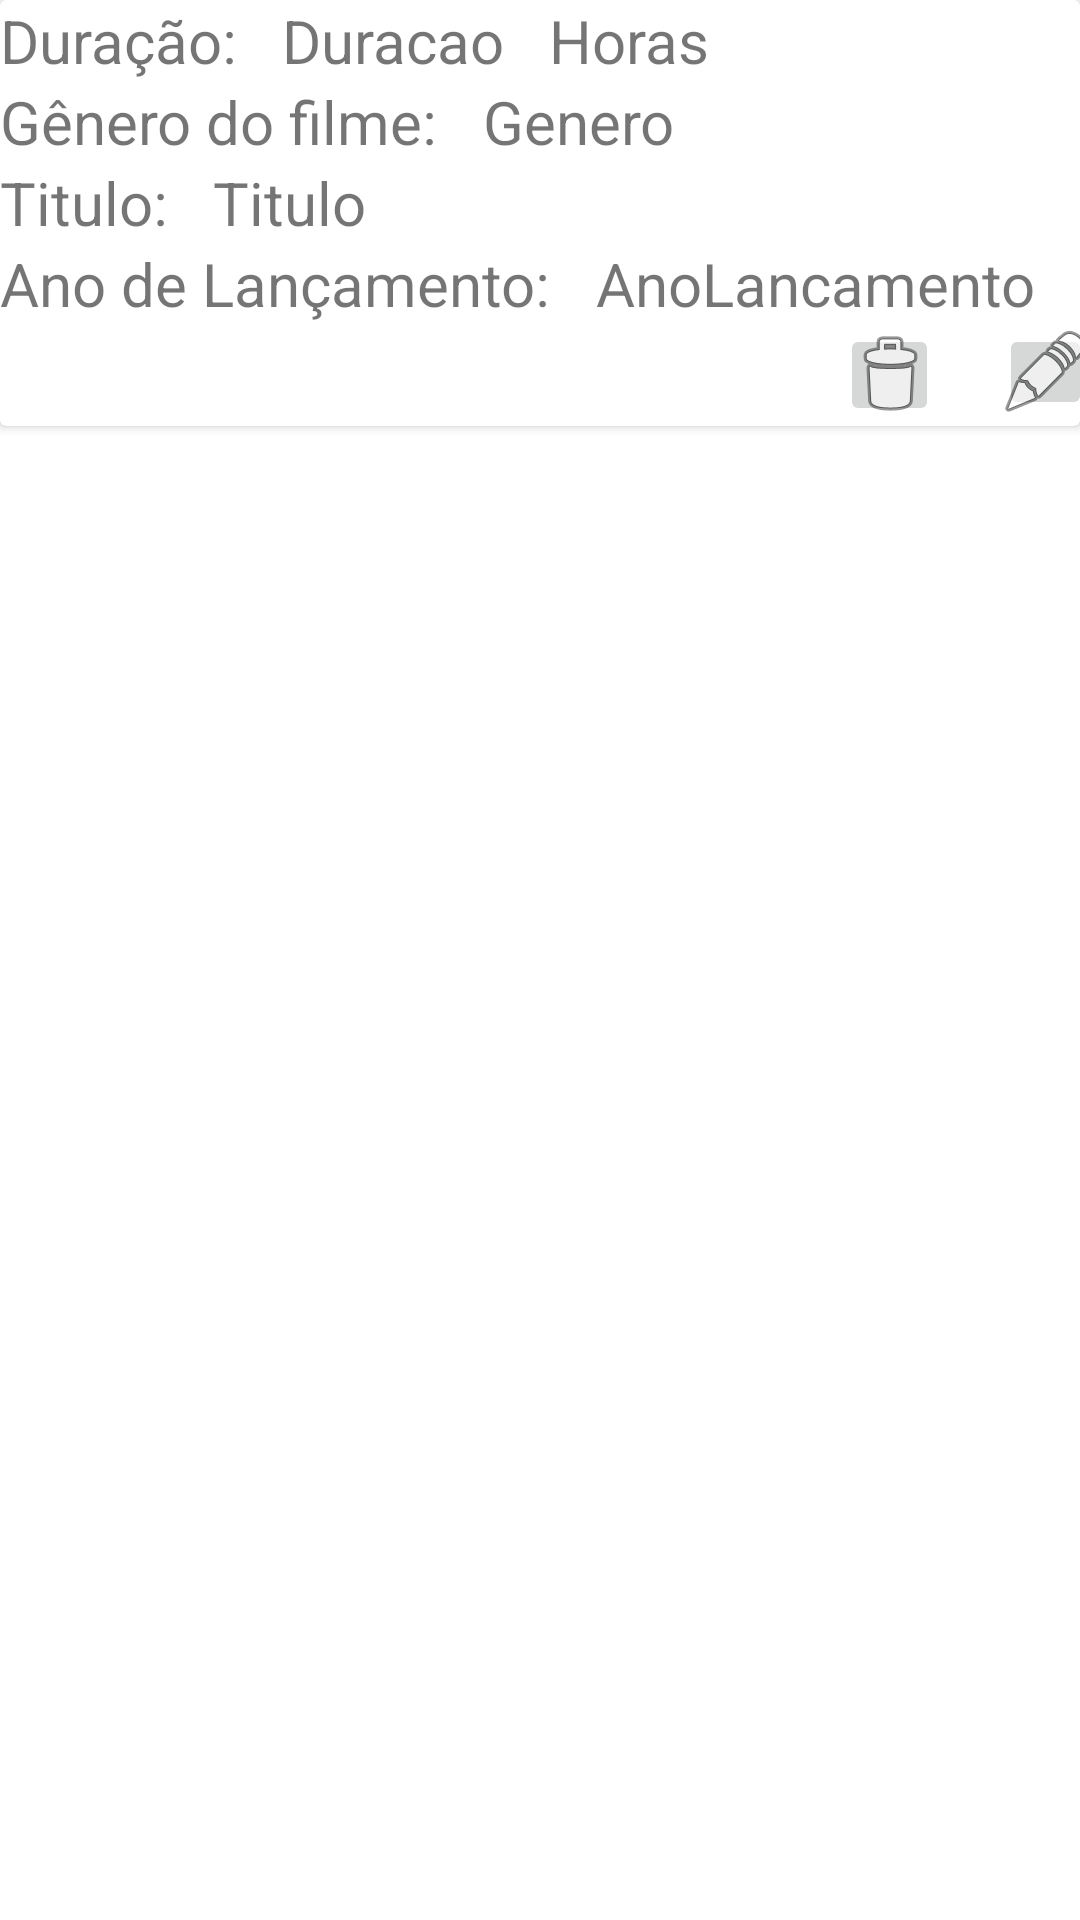

Where to tap for icons on this 1080px×1920px app screen, as (x,y):
delete: (889,373)
